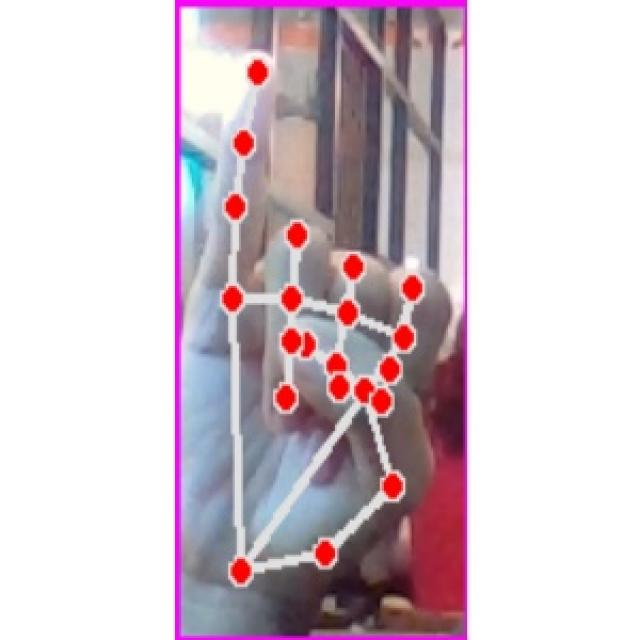I: (190, 45, 448, 608)
